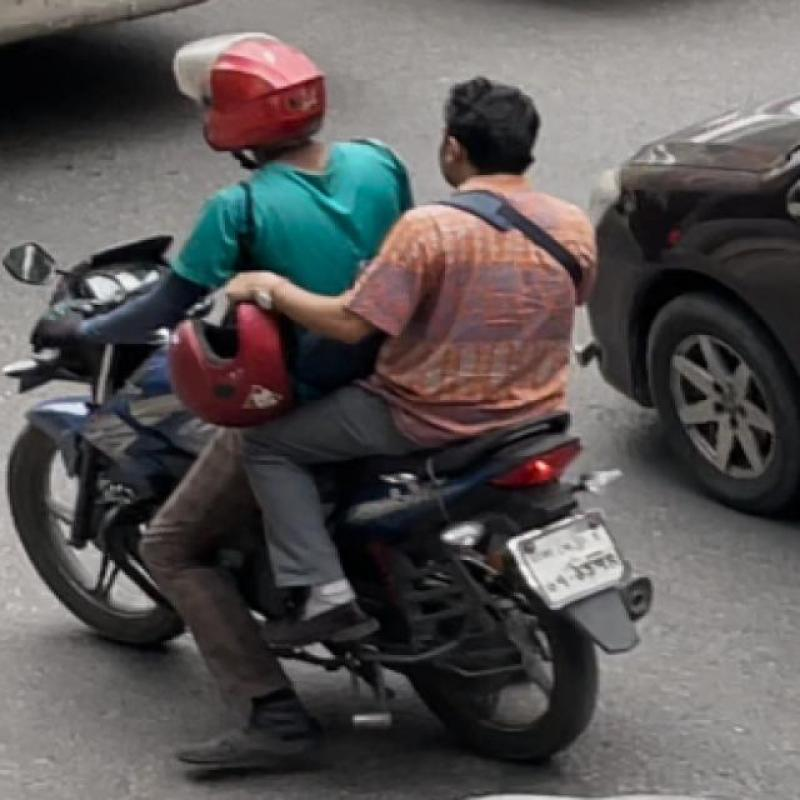nohelmet: (429, 68, 557, 192)
